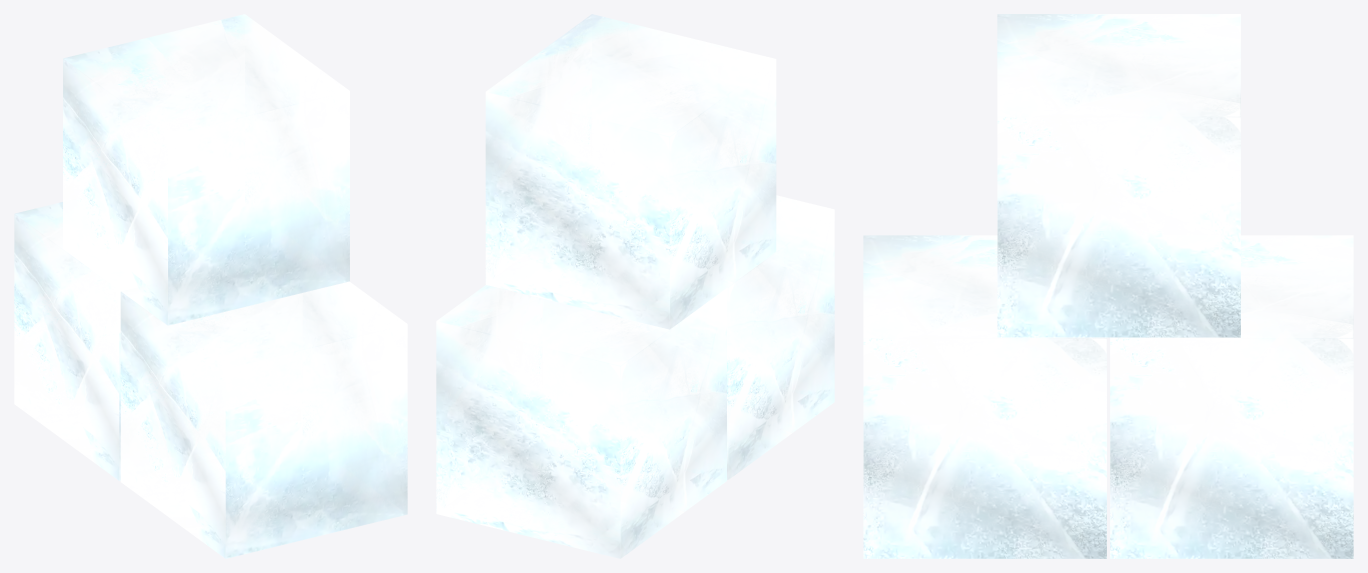
The model's file is icecube.glb.
3 renders of one model, left to right at view 1: azimuth 30°, elevation 25°; view 2: azimuth 150°, elevation 25°; view 3: azimuth 270°, elevation 25°, orthographic. The views are drawn at different scales.
Visible parts, largest first — view 1: Object_2.002, Object_2, Object_2.001; view 2: Object_2.002, Object_2.001, Object_2; view 3: Object_2.002, Object_2, Object_2.001.
Part boxes in pixels (x1,y1,x2,y2): Object_2.002: (63,14,349,325); Object_2: (120,281,407,558); Object_2.001: (14,202,120,480); Object_2.002: (485,14,776,329); Object_2.001: (436,285,726,558); Object_2: (727,195,834,479); Object_2.002: (997,14,1240,337); Object_2: (863,235,1106,558); Object_2.001: (1110,235,1353,558).
Size of the model in its own units: 2.33 by 4.67 by 4.69.
Materials: 3 (3 with a texture image).
